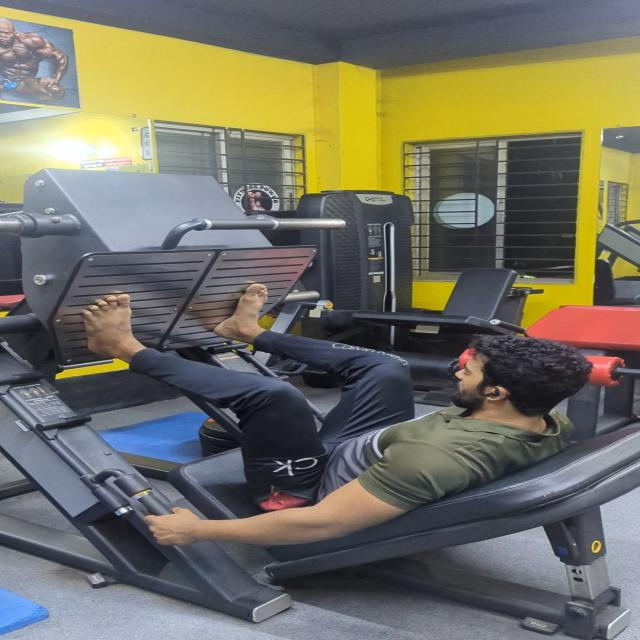Normal_LegPress: (67, 248, 640, 640)
